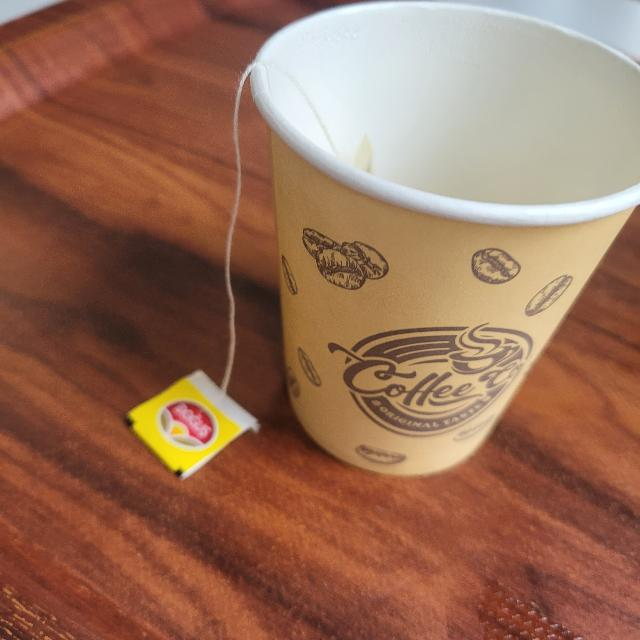Kagit: (252, 1, 640, 474)
Plastik: (119, 369, 257, 484), (214, 60, 252, 396)
